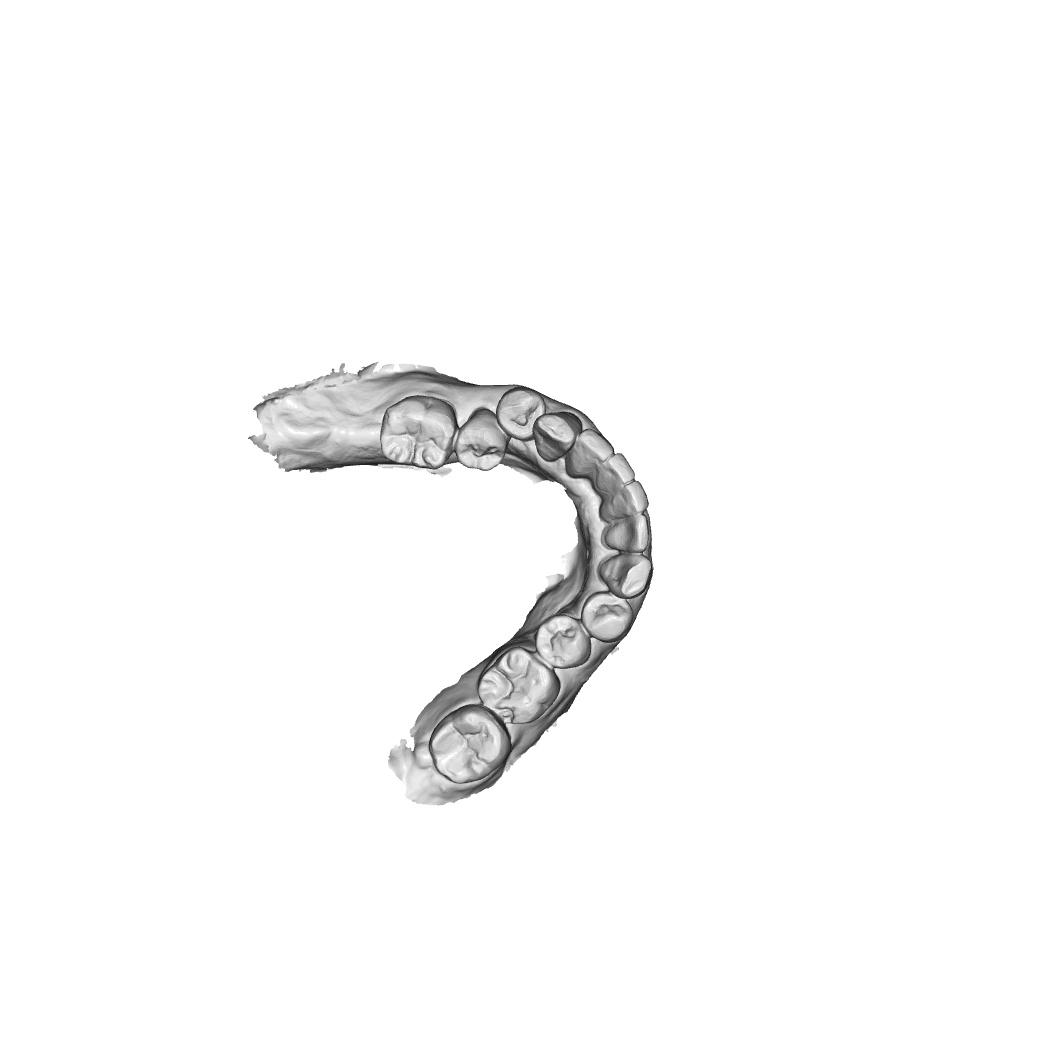canine: (598, 552, 654, 600), (532, 411, 583, 463)
incisor: (564, 427, 616, 479), (600, 480, 650, 519), (603, 515, 650, 554), (593, 452, 636, 494)
molar: (428, 703, 513, 785), (476, 645, 562, 725), (379, 394, 460, 471)
premolar: (455, 407, 509, 473), (535, 614, 593, 670), (494, 385, 548, 442), (580, 590, 634, 643)
